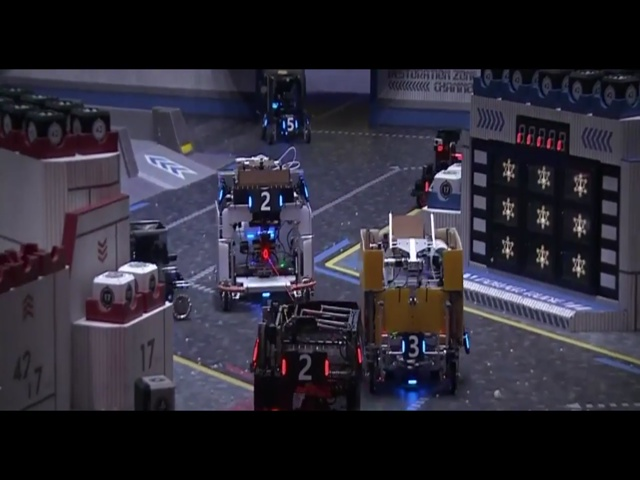bestBluePlate: (247, 188, 285, 226)
bestRedPlate: (280, 349, 329, 398)
bluePlate: (276, 106, 309, 139), (397, 326, 430, 359)
